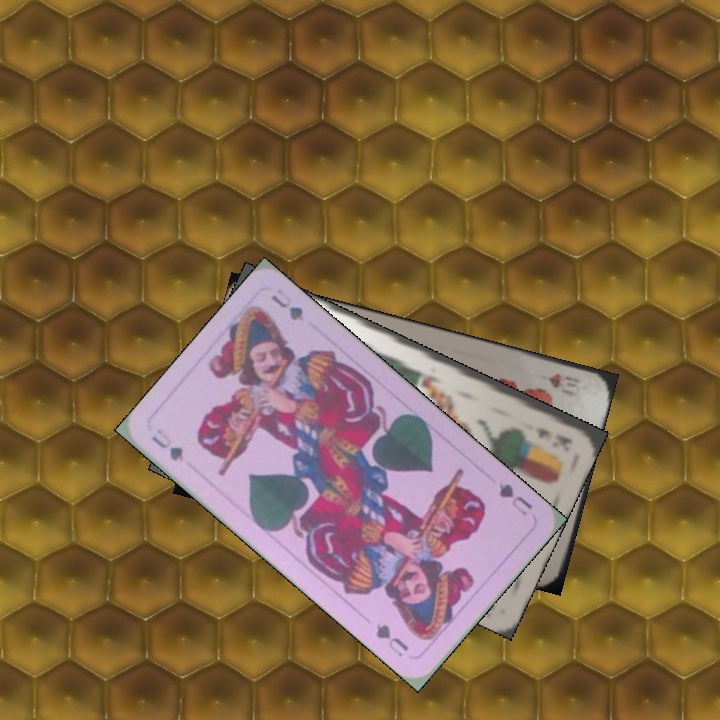EK: (532, 423, 575, 451)
GU: (495, 479, 536, 519), (147, 424, 187, 464)
H10: (544, 369, 583, 399)
